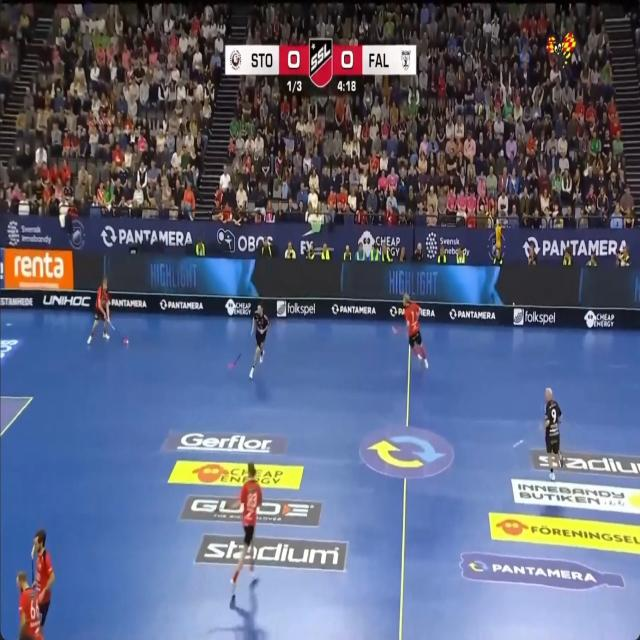Balls: (123, 337, 128, 345)
player: (231, 463, 262, 593), (33, 529, 55, 626), (403, 294, 428, 368), (543, 388, 563, 480), (17, 572, 42, 639), (249, 304, 270, 378), (87, 276, 109, 344)
